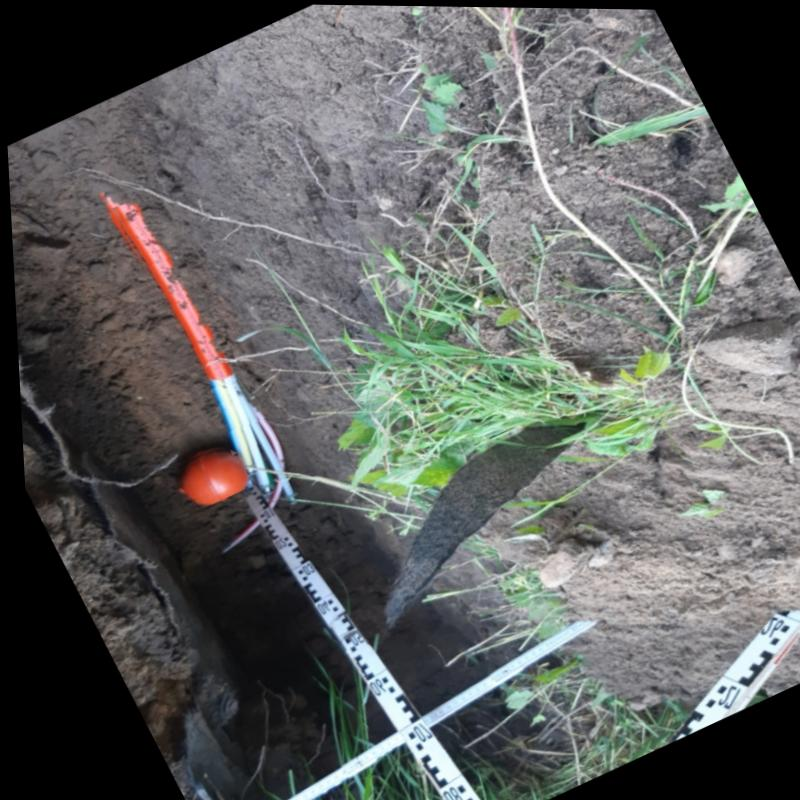Kugelmarker: (175, 447, 241, 501)
Orang-Speednetrohrchen: (109, 202, 270, 448)
